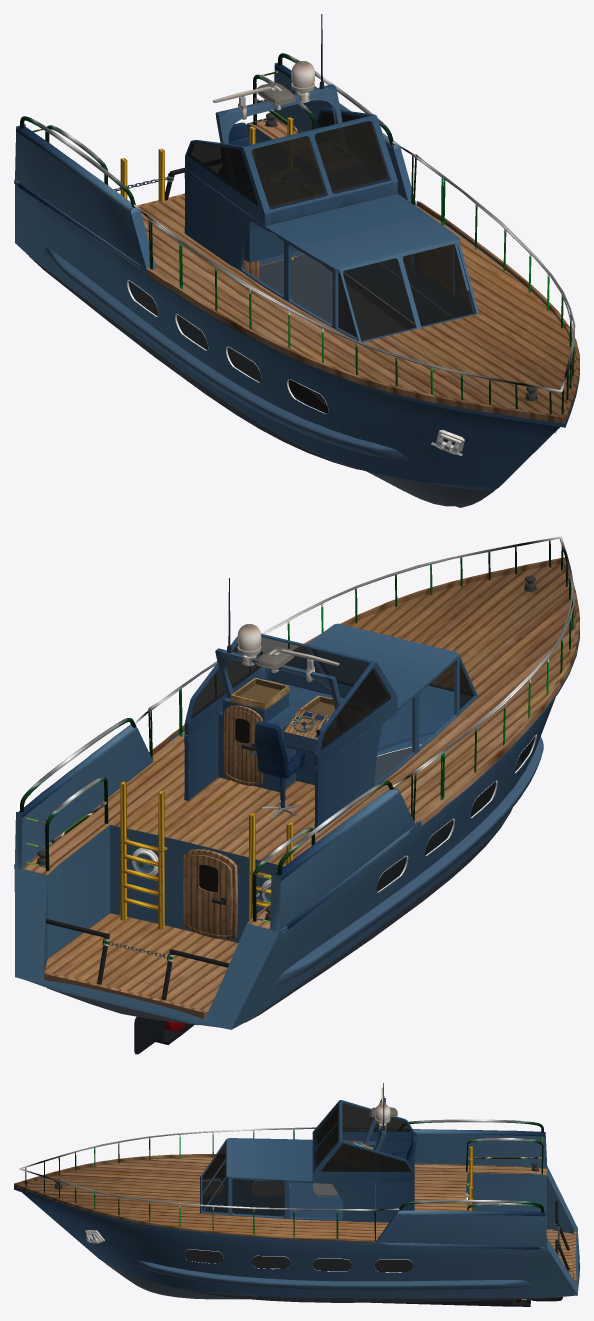
Rendered from motor_boat_iii_empty.glb.
The picture shows the model from 3 angles, top to bottom: view 1: azimuth 30°, elevation 25°; view 2: azimuth 150°, elevation 25°; view 3: azimuth 270°, elevation 25°; orthographic projection. The views are drawn at different scales.
Parts seen in each view (by area): view 1: Object_25, Object_23, Object_14, Object_7, Object_28, Object_38, Object_22; view 2: Object_25, Object_23, Object_28, Object_14, Object_7, Object_22, Object_38, Object_19, Object_24, Object_35, Object_33; view 3: Object_25, Object_23, Object_14, Object_7, Object_28, Object_24, Object_38.
Boxes of the visible parts, box(x1,y1,x2,y2) form: Object_25: box(14, 62, 579, 490); Object_23: box(133, 118, 579, 423); Object_14: box(128, 112, 479, 413); Object_7: box(29, 254, 494, 507); Object_28: box(20, 53, 575, 414); Object_38: box(213, 61, 314, 119); Object_22: box(120, 117, 293, 259); Object_25: box(14, 605, 579, 1029); Object_23: box(22, 557, 579, 1018); Object_28: box(20, 536, 574, 1000); Object_14: box(131, 637, 535, 891); Object_7: box(45, 745, 512, 1025); Object_22: box(120, 781, 293, 929); Object_38: box(237, 624, 339, 682); Object_19: box(230, 677, 334, 715); Object_24: box(134, 985, 194, 1054); Object_35: box(129, 734, 536, 903); Object_33: box(199, 718, 249, 891); Object_25: box(14, 1098, 578, 1297); Object_23: box(14, 1140, 576, 1283); Object_14: box(184, 1104, 412, 1271); Object_7: box(106, 1230, 579, 1302); Object_28: box(19, 1119, 569, 1270); Object_24: box(258, 1296, 562, 1306); Object_38: box(369, 1087, 397, 1129).
Size of the model in its own units: 5.91 by 7.61 by 16.57.
Materials: 31 (28 with a texture image).
